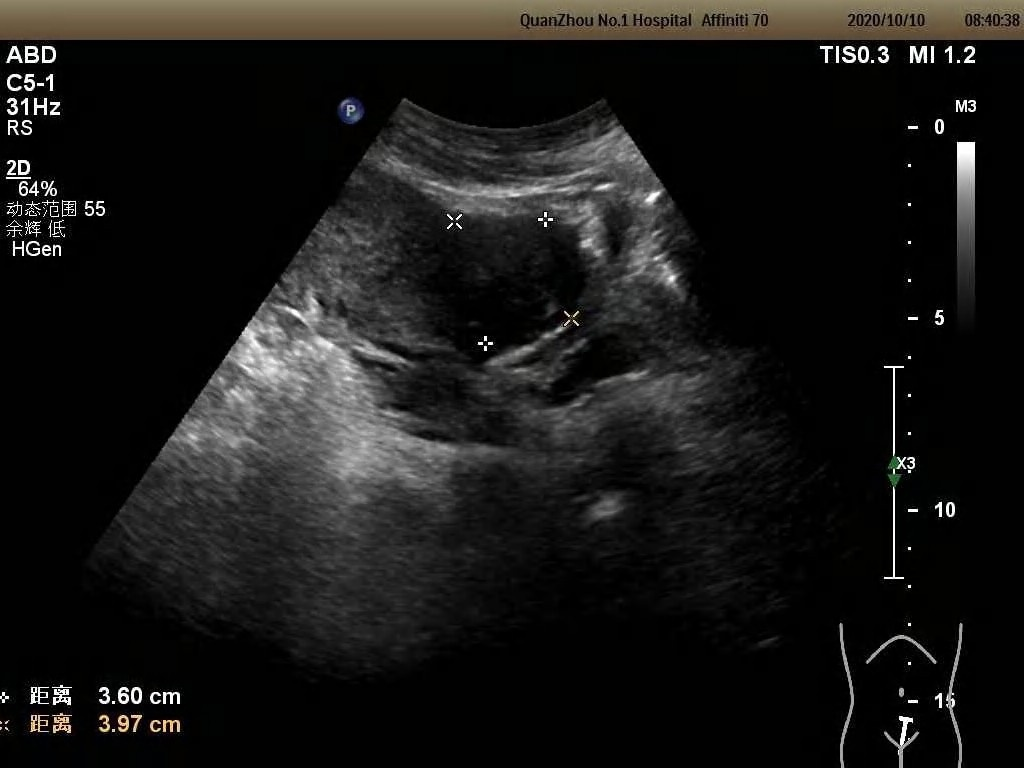肌瘤: (446, 216, 572, 354)
